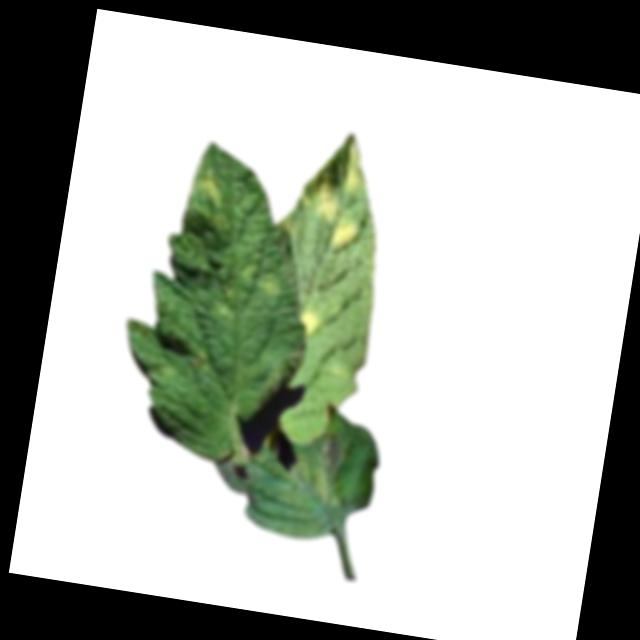Leaf_Mold: (306, 127, 377, 257), (292, 430, 350, 510), (191, 177, 224, 208), (293, 307, 320, 338), (253, 276, 279, 297)
